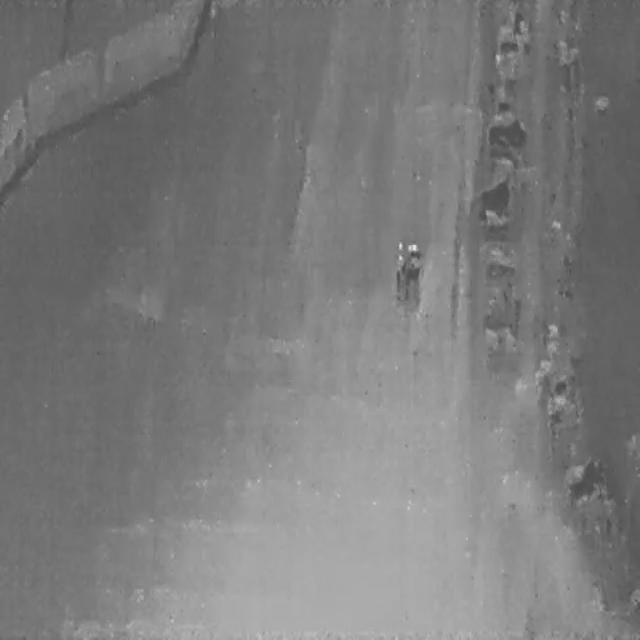Bicycle: (562, 456, 609, 509), (470, 175, 516, 221), (485, 118, 527, 148), (483, 258, 516, 282), (492, 34, 529, 55), (508, 12, 530, 36), (489, 96, 511, 114)
OtherVehicle: (387, 238, 425, 312)
